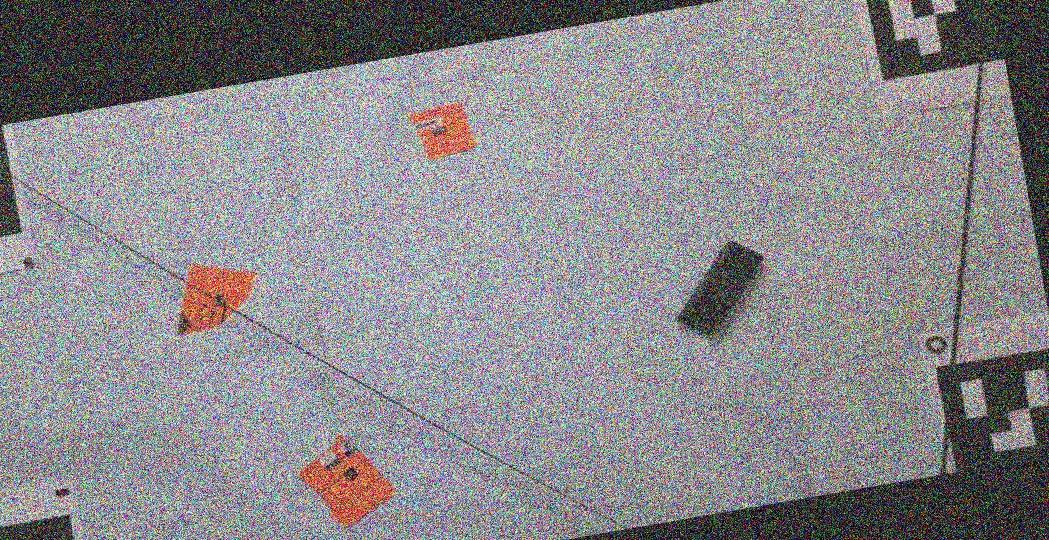obstacle: (298, 436, 395, 528), (676, 240, 763, 336), (174, 262, 259, 337), (412, 101, 479, 163)
